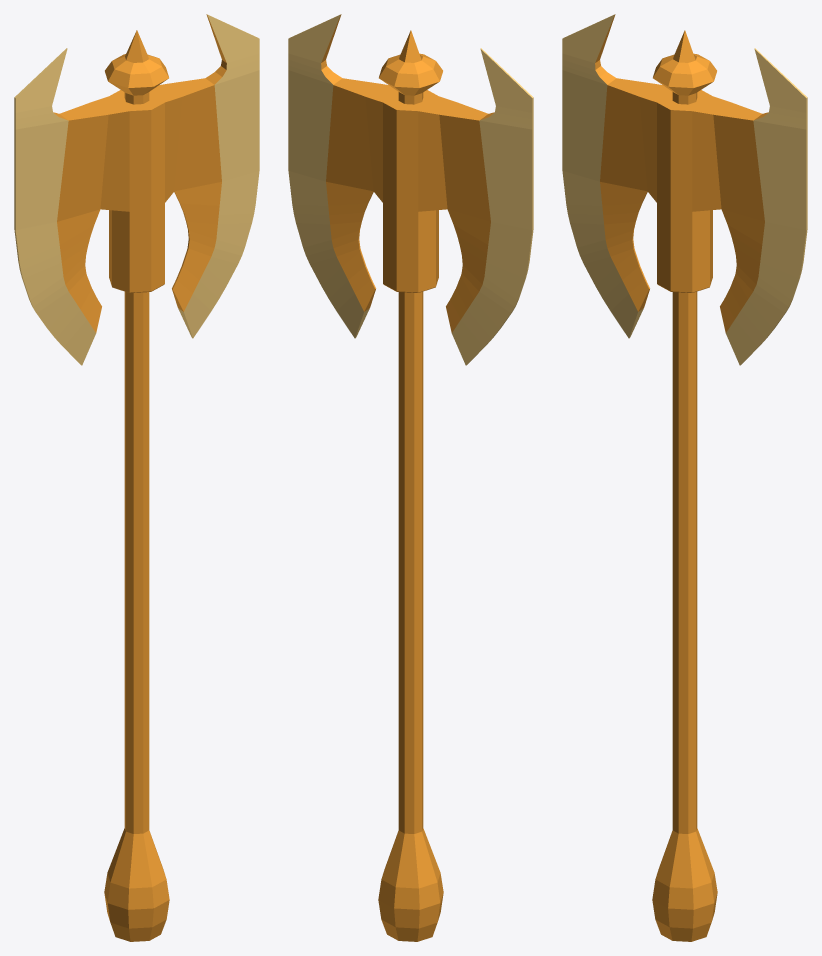
Rendered from two_handed_axe_7.fbx.
3 views of the same model, side by side, from view 1: azimuth 30°, elevation 25°; view 2: azimuth 150°, elevation 25°; view 3: azimuth 330°, elevation 25° (orthographic).
Parts seen in each view (by area): view 1: two_handed_axe_7; view 2: two_handed_axe_7; view 3: two_handed_axe_7.
Boxes of the visible parts, left/top/right/bottom form: two_handed_axe_7: left=14, top=14, right=259, bottom=941; two_handed_axe_7: left=288, top=14, right=533, bottom=941; two_handed_axe_7: left=562, top=14, right=807, bottom=941.
Bounding box in the file's own units: 0.5679 × 2.01 × 0.1364.
1 material, 1 textured.
